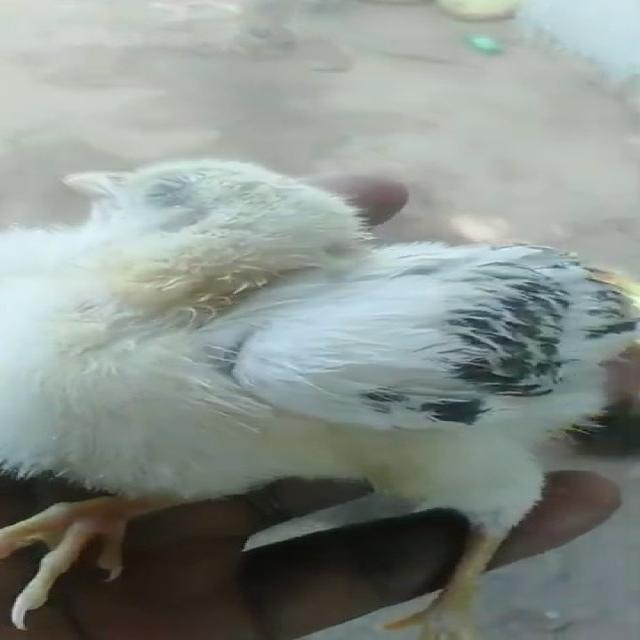newcastle: (0, 156, 640, 640)
